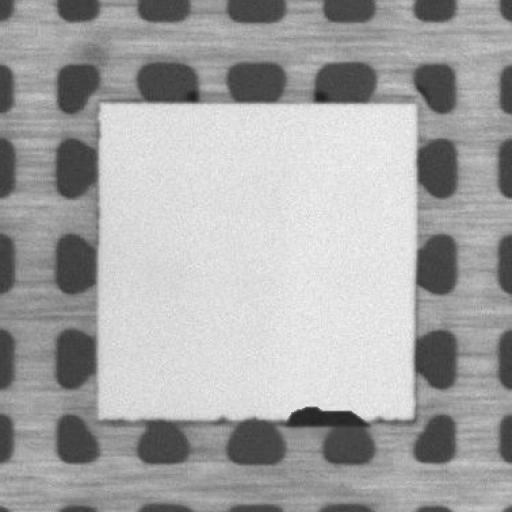DIE_BROKEN: (278, 405, 371, 427)
